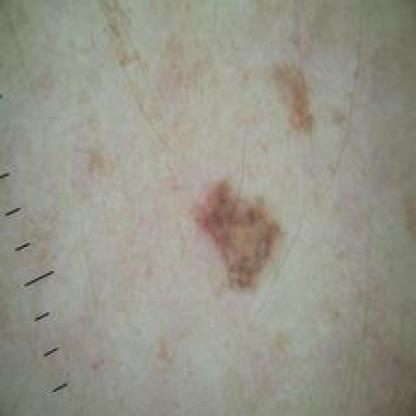malignant: (182, 136, 297, 294)
